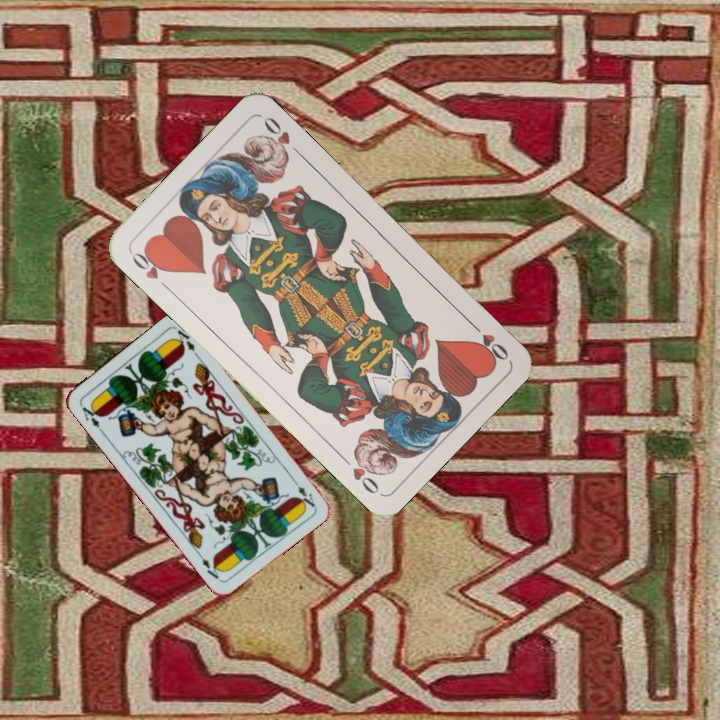EA: (76, 400, 106, 435), (288, 475, 318, 510)
HO: (127, 244, 174, 294), (464, 316, 512, 364)
